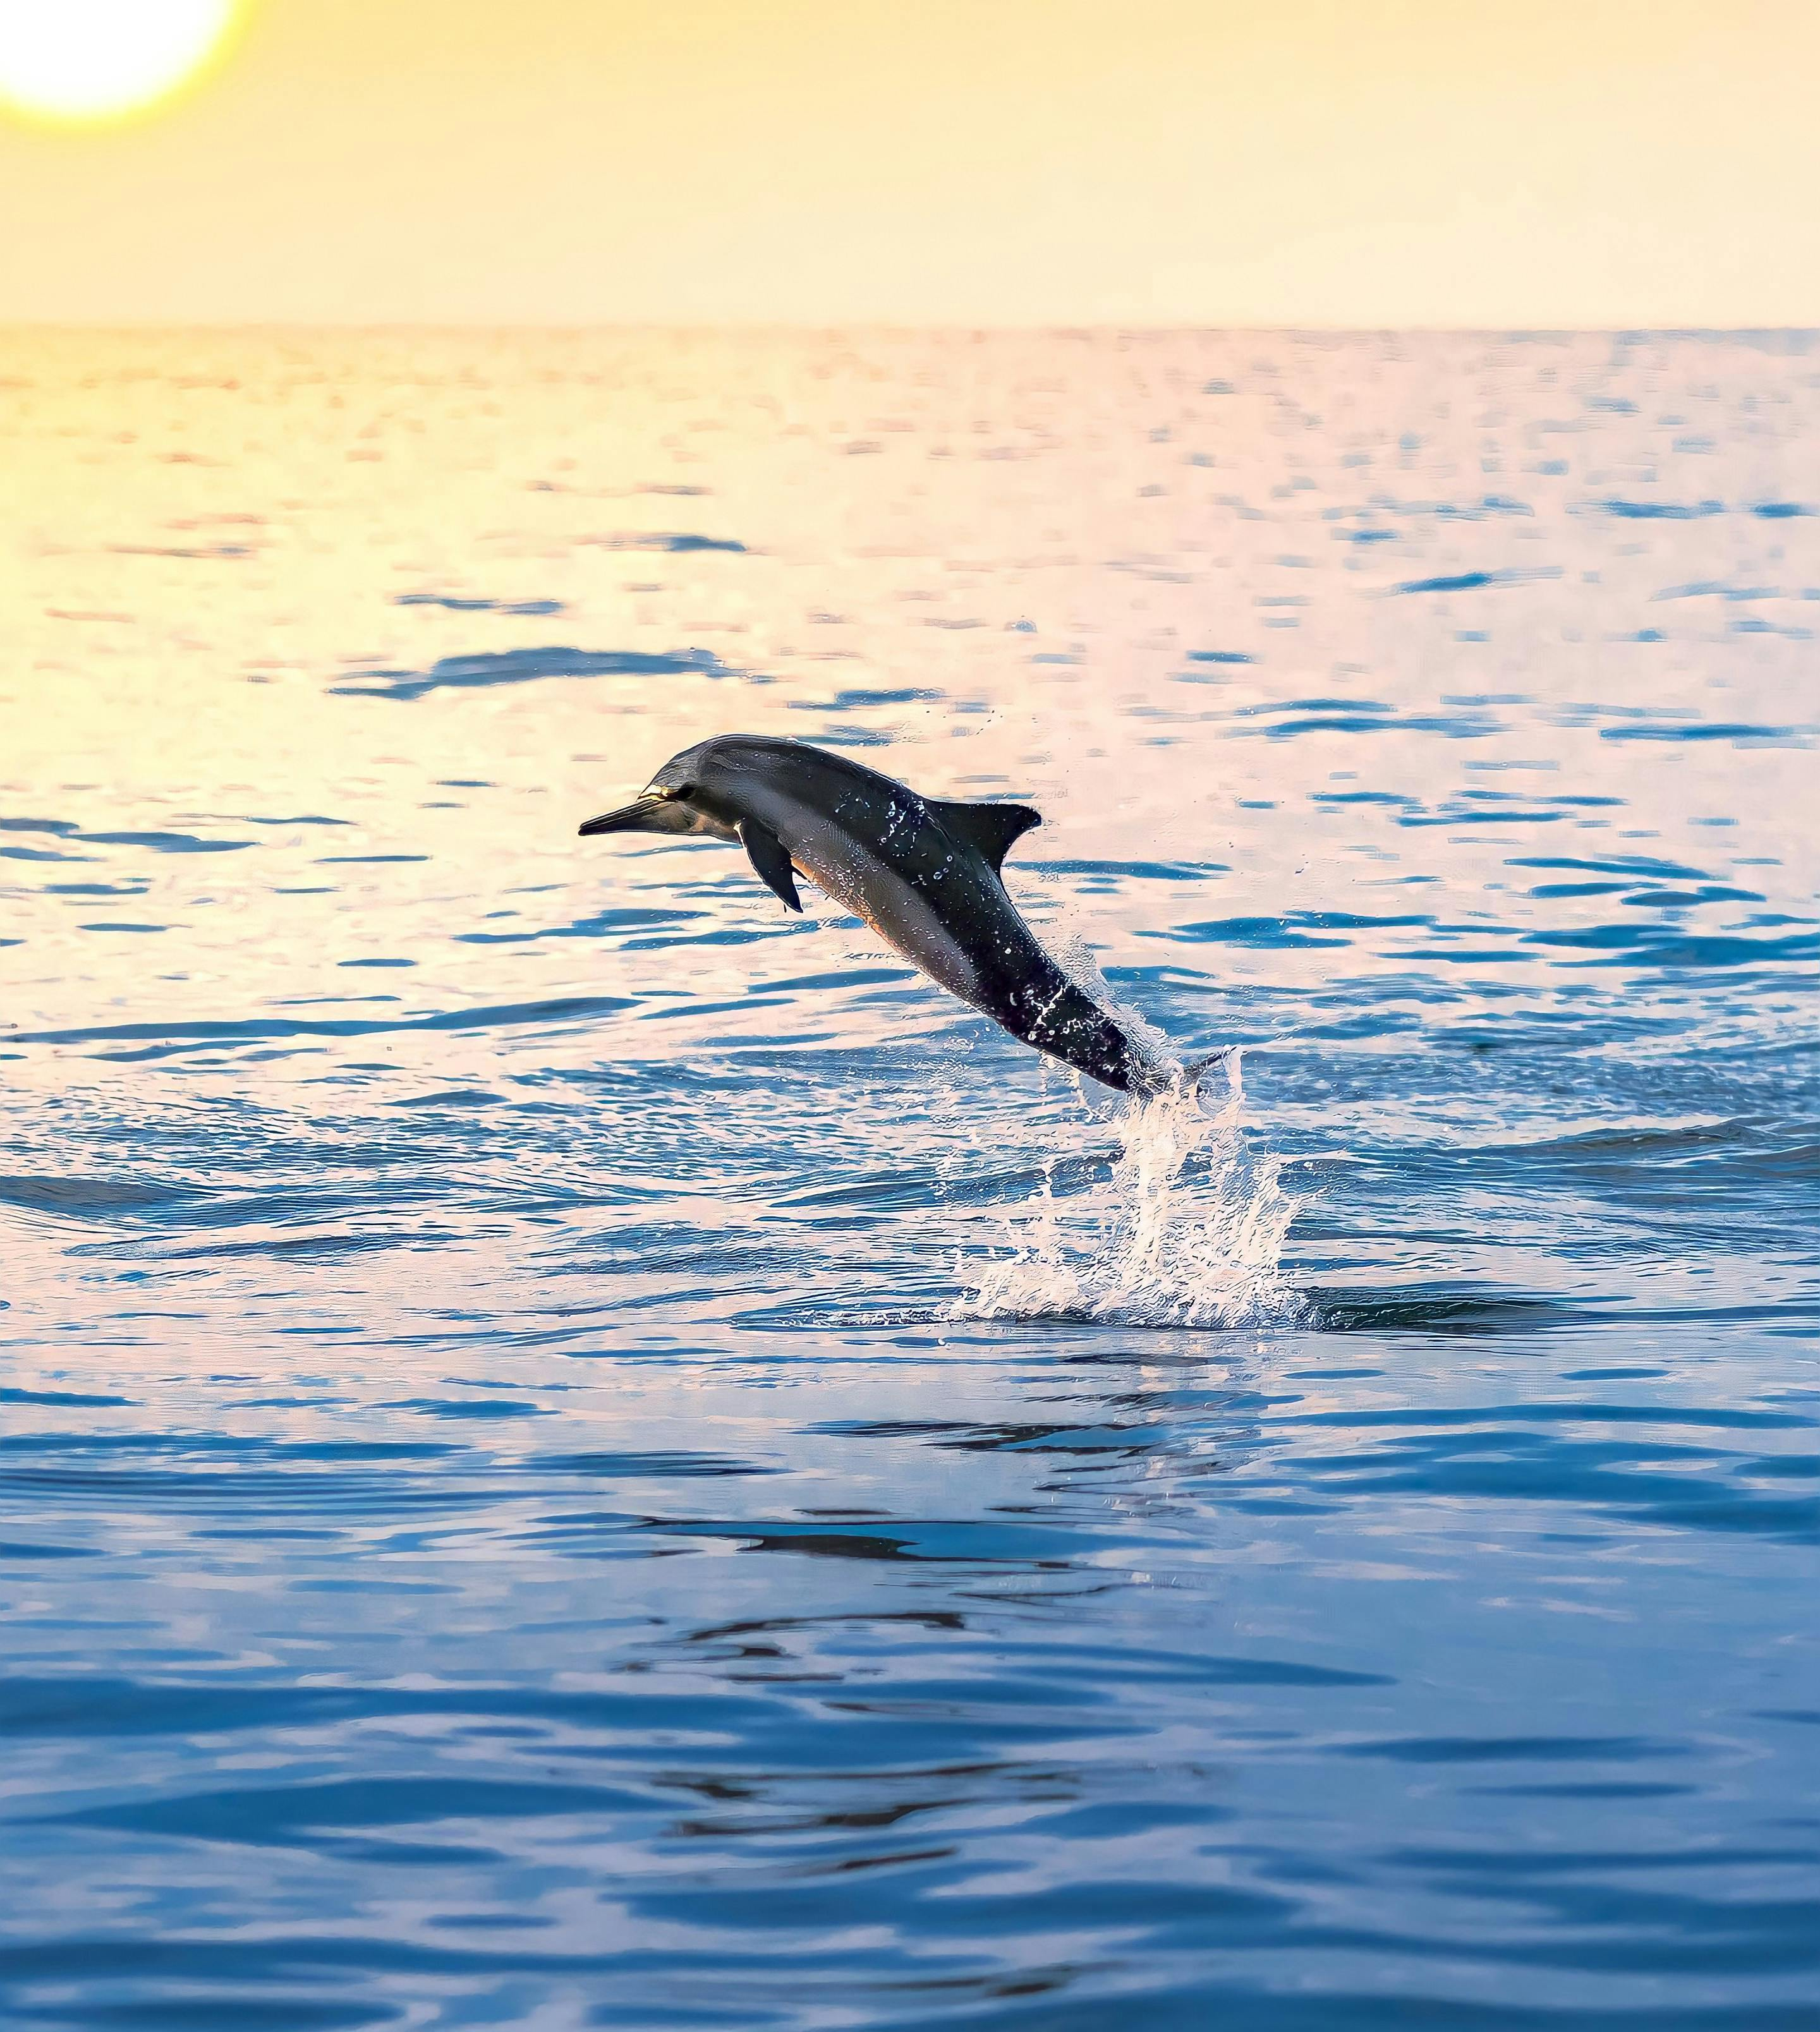dolphin: (564, 724, 1237, 1131)
